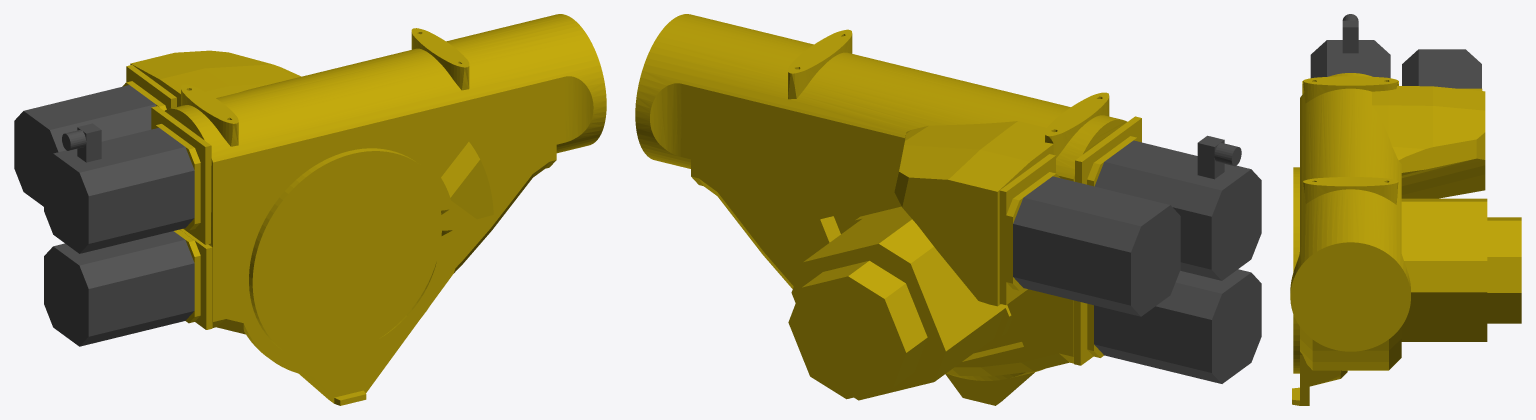
3 renders of one model, left to right at view 1: azimuth 30°, elevation 25°; view 2: azimuth 150°, elevation 25°; view 3: azimuth 270°, elevation 25°, orthographic. The views are drawn at different scales.
Visible parts, largest first — view 1: Mesh; view 2: Mesh; view 3: Mesh.
Boxes of the visible parts, box(x1,y1,x2,y2) form: Mesh: box(14, 14, 606, 405); Mesh: box(635, 14, 1261, 405); Mesh: box(1290, 14, 1521, 405).
Size of the model in its own units: 0.9811 by 0.4339 by 0.5685.
